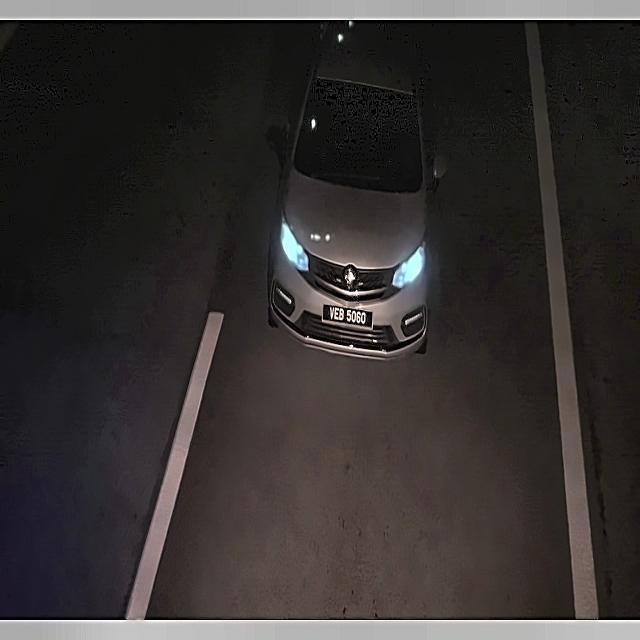car: (319, 304, 376, 331)
